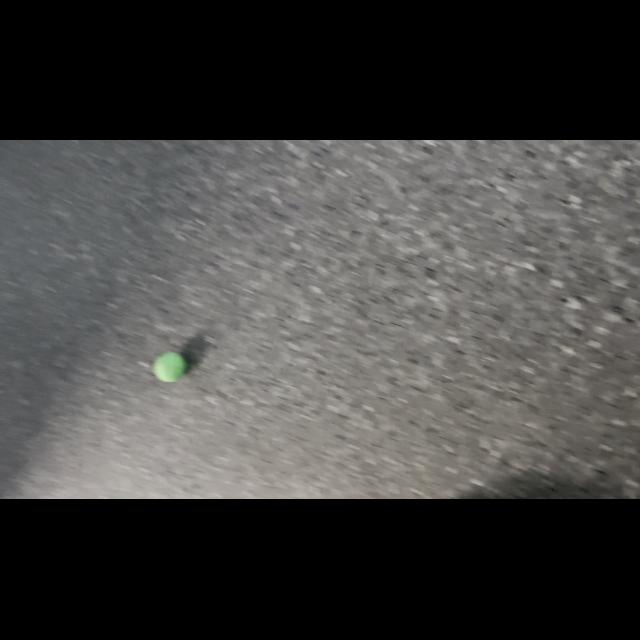objects: (150, 346, 192, 386)
